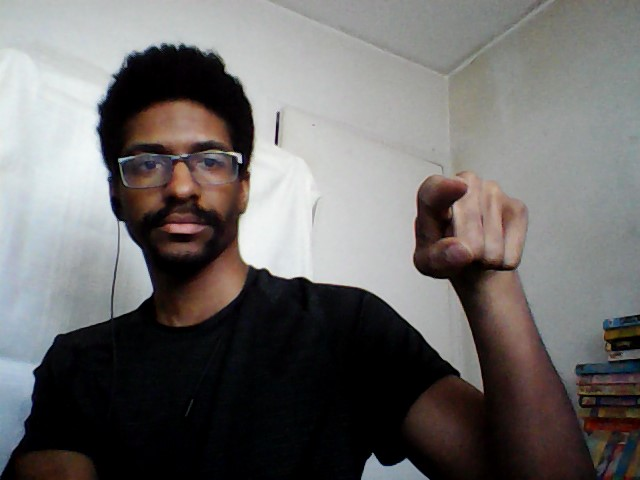z: (410, 167, 534, 284)
